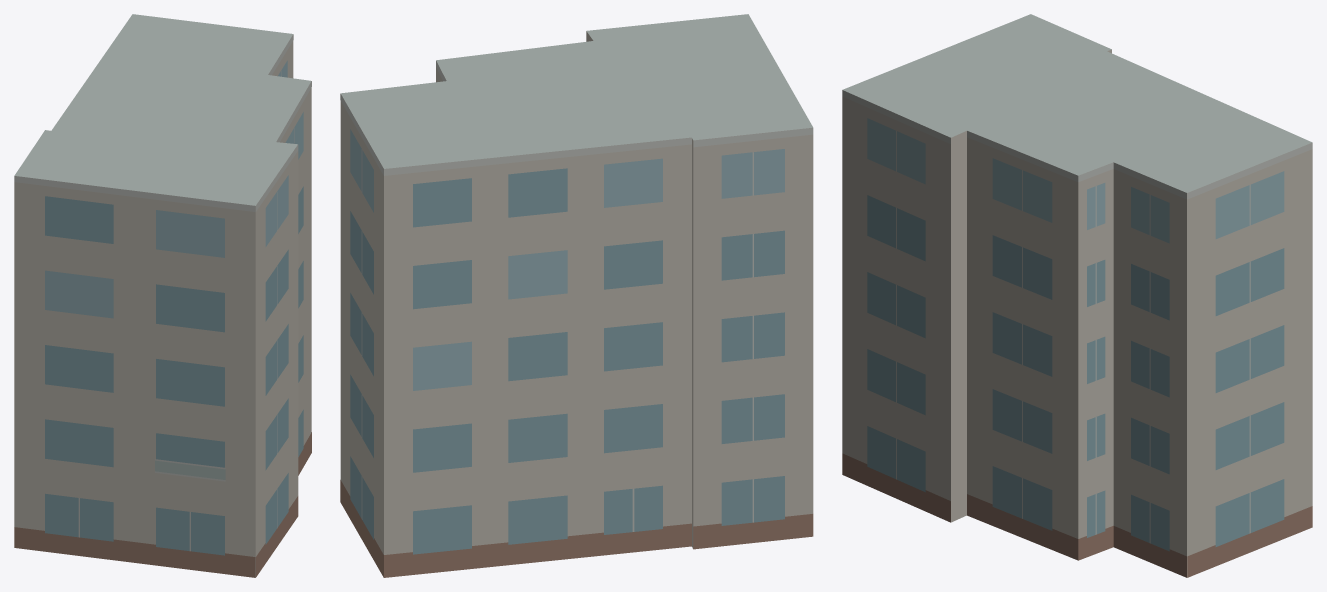
The model's file is survey-upis-32891738.glb.
The picture shows the model from 3 angles, left to right: view 1: azimuth 30°, elevation 25°; view 2: azimuth 150°, elevation 25°; view 3: azimuth 270°, elevation 25°; orthographic projection. The views are drawn at different scales.
Parts seen in each view (by area): view 1: survey-upis-32891738.tmp; view 2: survey-upis-32891738.tmp; view 3: survey-upis-32891738.tmp.
Boxes of the visible parts, x1,y1,x2,y2 form: survey-upis-32891738.tmp: (14,14,311,577); survey-upis-32891738.tmp: (340,14,813,577); survey-upis-32891738.tmp: (842,14,1312,577).
Bounding box in the file's own units: 14.38 × 14.4 × 15.96.
